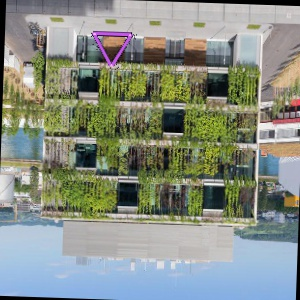triangle: (90, 27, 135, 70)
